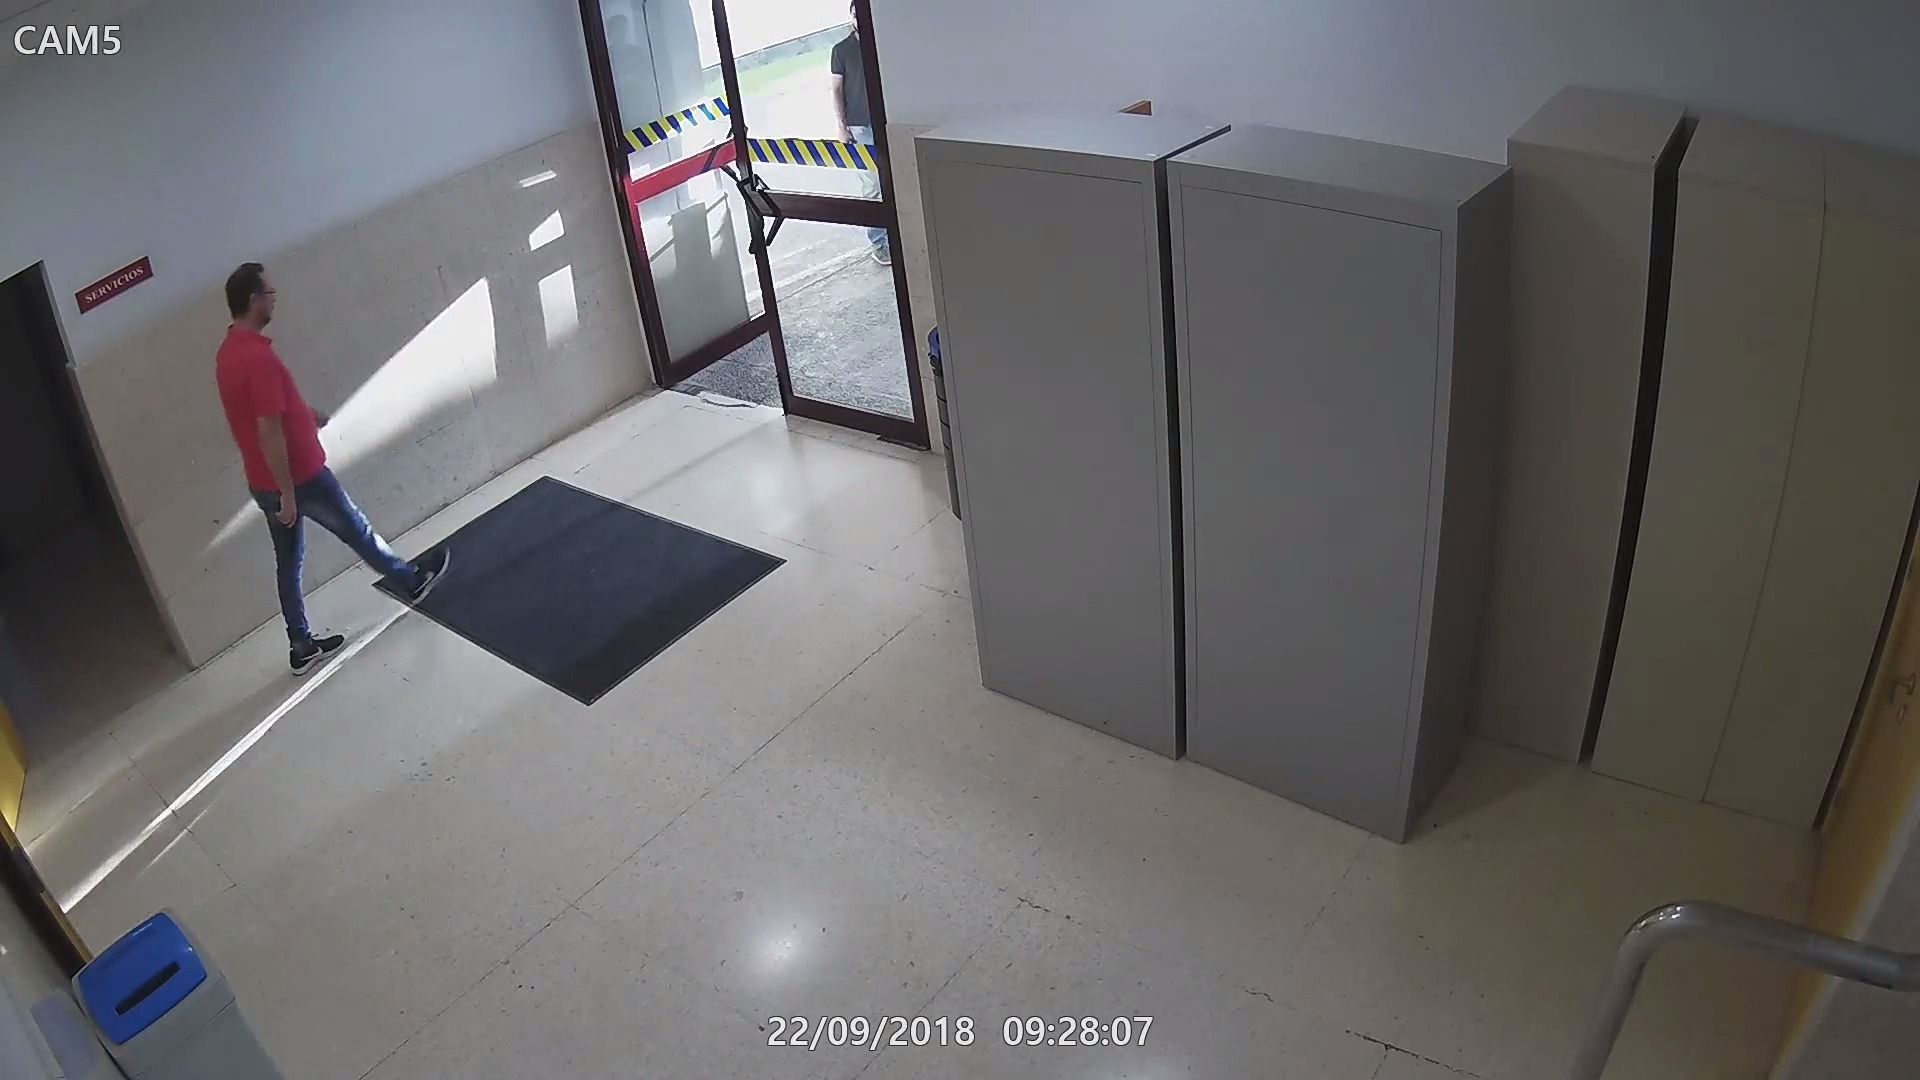Handgun: (265, 487, 309, 555)
